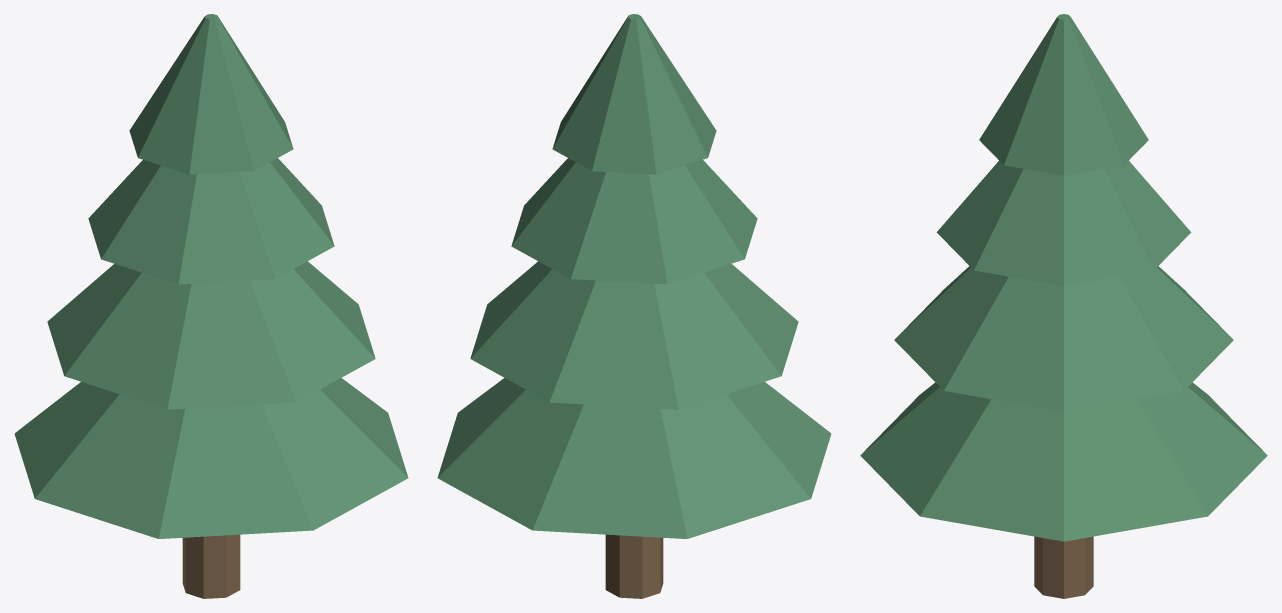
Rendered from pine_tree.glb.
The picture shows the model from 3 angles, left to right: view 1: azimuth 30°, elevation 25°; view 2: azimuth 150°, elevation 25°; view 3: azimuth 270°, elevation 25°; orthographic projection.
Visible parts, largest first — view 1: PineTree; view 2: PineTree; view 3: PineTree.
Boxes of the visible parts, x1,y1,x2,y2 form: PineTree: (14,14,408,598); PineTree: (437,14,831,598); PineTree: (860,14,1267,598).
Size of the model in its own units: 4.8 by 7.4 by 4.8.
